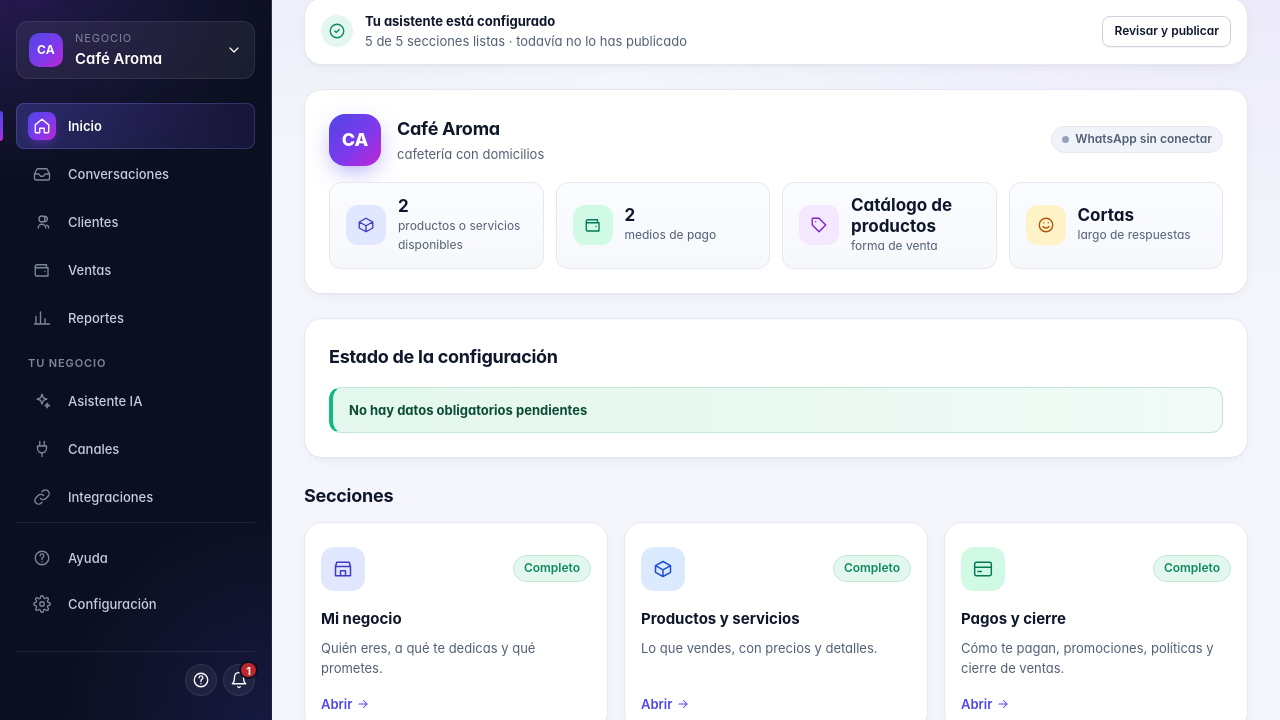
Test: Pasar a una persona › la campana muestra los avisos sin leer y abre la conversación del aviso
The image size is (1280, 720).
(page scrolled)
Click the button named "Notificaciones: 1 sin leer": {"x": 239, "y": 680} [223,664,255,696]
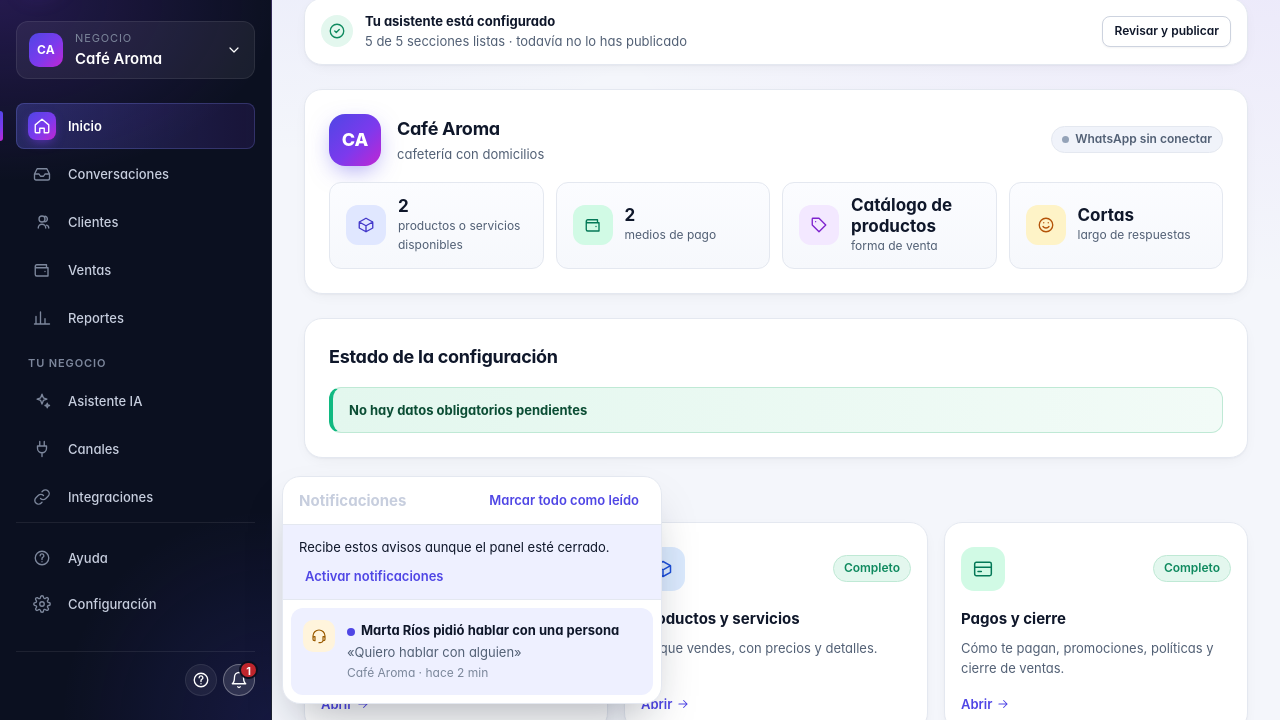
Click the button "Marta Ríos pidió hablar con una persona": {"x": 472, "y": 652} [291,608,653,695]
(page scrolled)
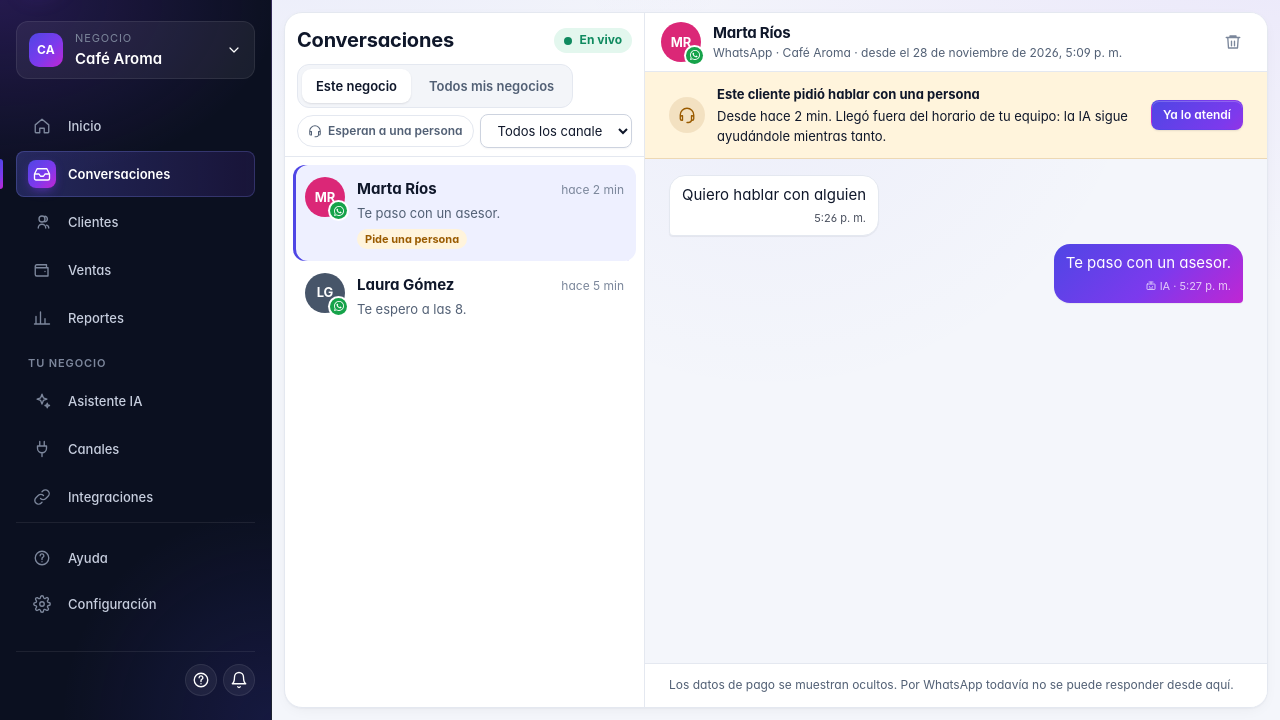
Expected: the button named "Notificaciones" is shown, [223,664,255,696]
Result: the text "Este cliente pidió hablar con una persona" is shown at [717,86,980,102]
